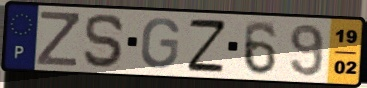6: (242, 19, 279, 77)
9: (287, 22, 326, 78)
G: (138, 16, 181, 71)
S: (82, 12, 127, 70)
Z: (35, 9, 81, 68), (186, 18, 228, 73)
